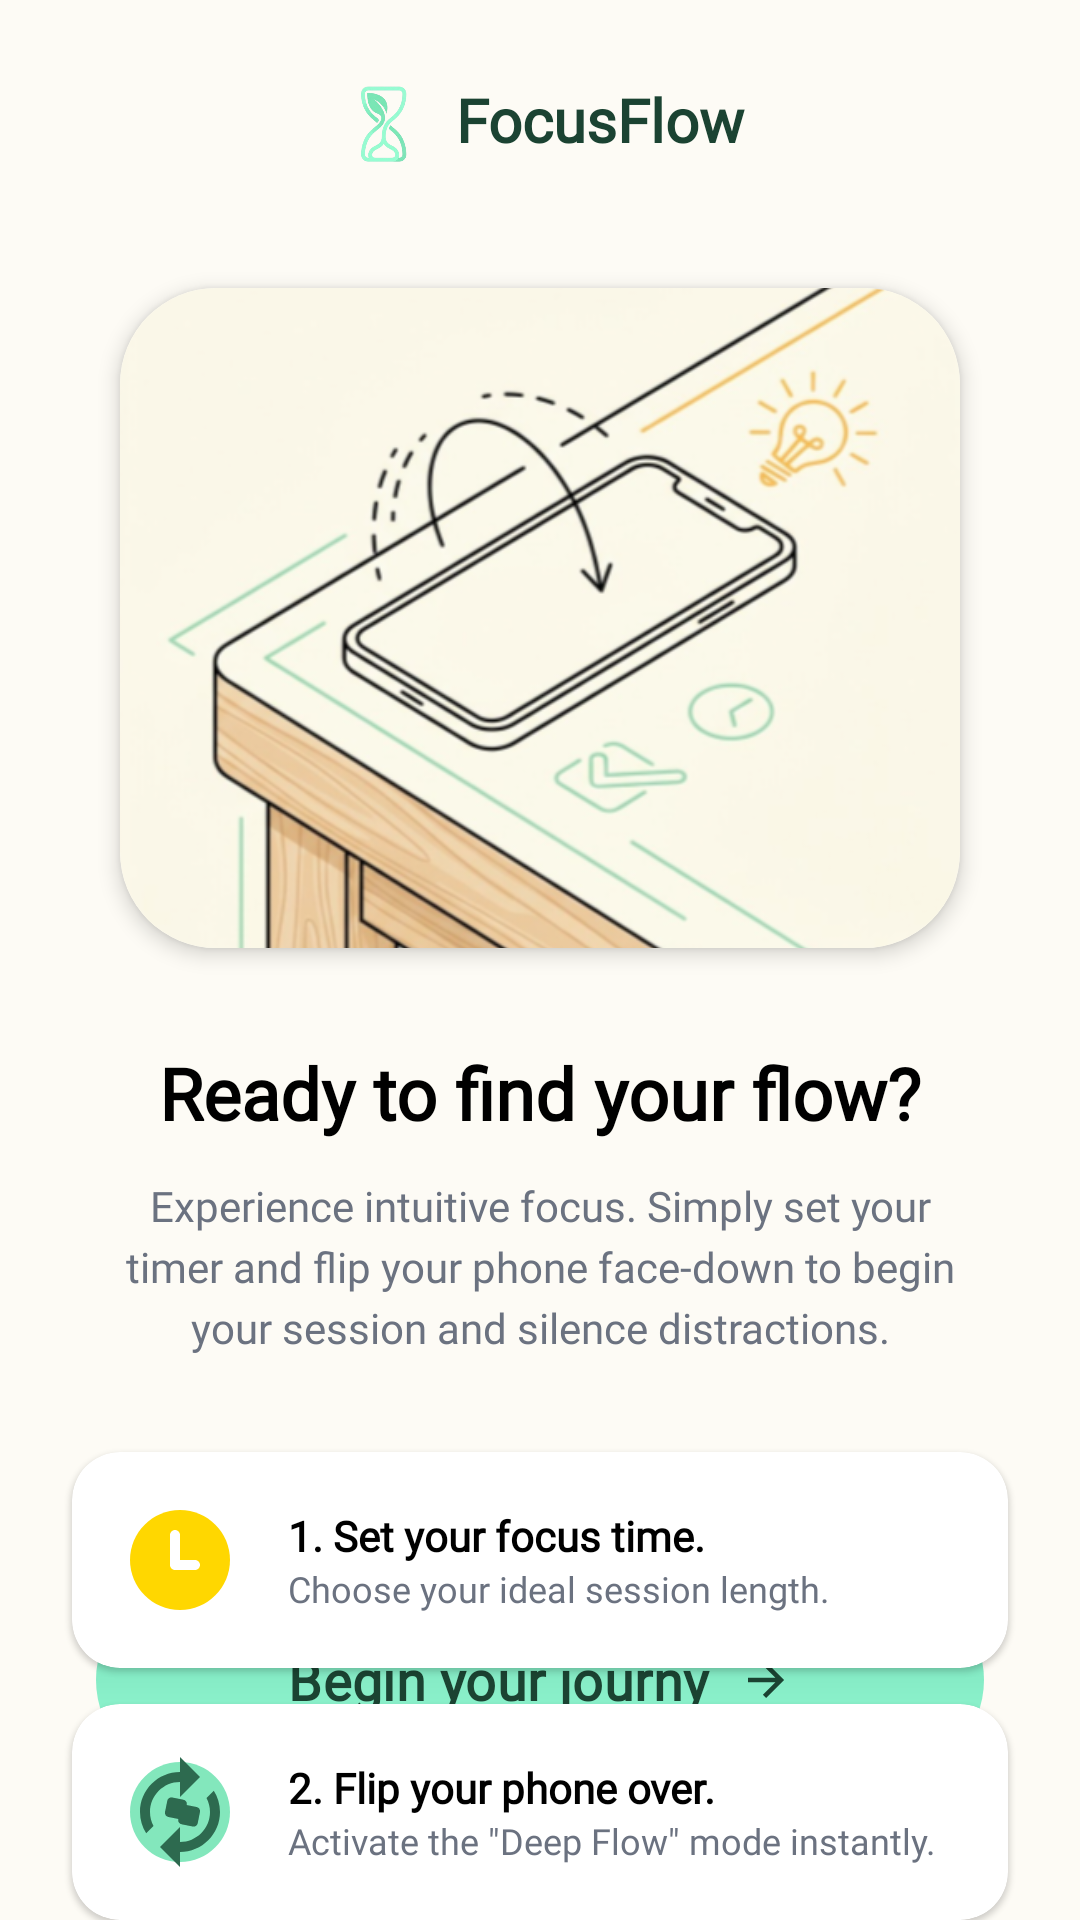

Icon bounding boxes for this 1080×1920 phone screenshot, format (x1, y1, x2, y2):
flip step: (130, 1757, 230, 1867)
timer step: (130, 1510, 230, 1610)
